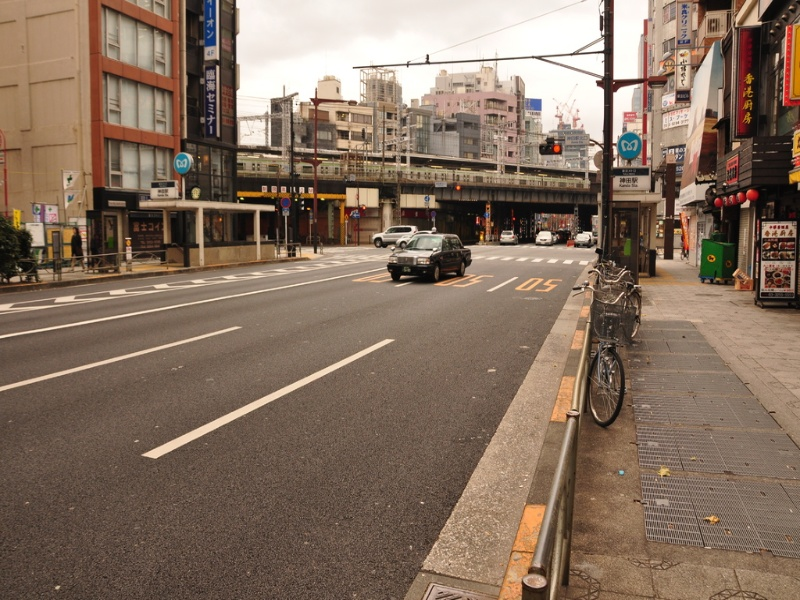red_light: (538, 136, 567, 161)
